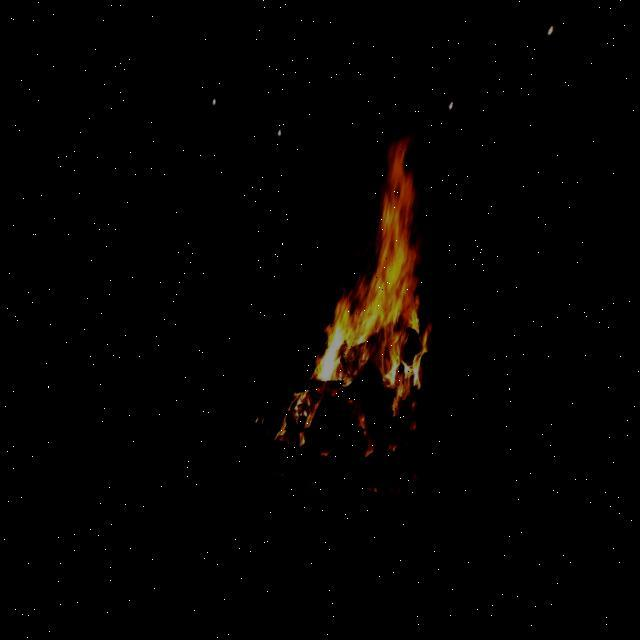Fire: (286, 127, 474, 472)
